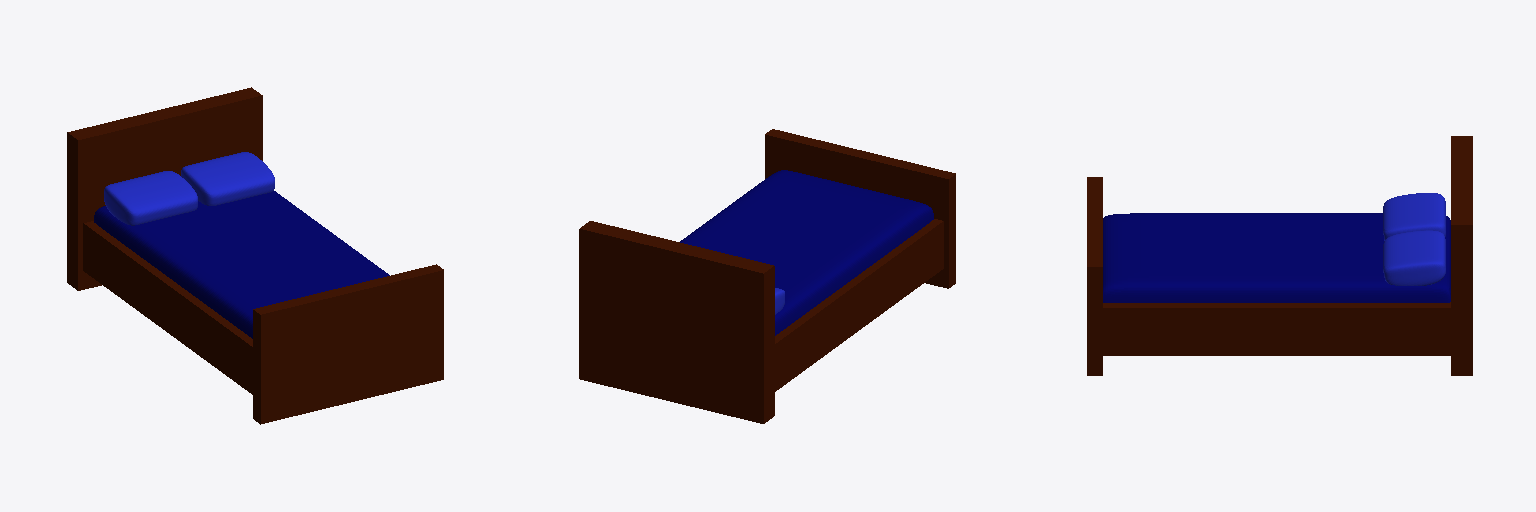
The model's file is bed.obj.
3 views of the same model, side by side, from view 1: azimuth 30°, elevation 25°; view 2: azimuth 150°, elevation 25°; view 3: azimuth 270°, elevation 25° (orthographic).
Parts seen in each view (by area): view 1: Cube.001_Cube.003, Cube.004_Cube.007, Cube_Cube.002, Cube.003_Cube.006, Cube.006_Cube.009, Cube.005_Cube.008; view 2: Cube_Cube.002, Cube.004_Cube.007, Cube.003_Cube.006, Cube.001_Cube.003; view 3: Cube.004_Cube.007, Cube.002_Cube.004, Cube_Cube.002, Cube.005_Cube.008, Cube.001_Cube.003, Cube.006_Cube.009.
Boxes of the visible parts, <box> form: Cube.001_Cube.003: <box>253,264,443,424</box>; Cube.004_Cube.007: <box>94,191,389,338</box>; Cube_Cube.002: <box>67,87,262,290</box>; Cube.003_Cube.006: <box>83,221,252,394</box>; Cube.006_Cube.009: <box>104,171,197,225</box>; Cube.005_Cube.008: <box>181,152,274,205</box>; Cube_Cube.002: <box>579,221,774,423</box>; Cube.004_Cube.007: <box>680,170,933,335</box>; Cube.003_Cube.006: <box>775,219,943,391</box>; Cube.001_Cube.003: <box>765,129,955,288</box>; Cube.004_Cube.007: <box>1103,213,1450,302</box>; Cube.002_Cube.004: <box>1103,302,1450,355</box>; Cube_Cube.002: <box>1451,136,1472,375</box>; Cube.005_Cube.008: <box>1383,230,1445,285</box>; Cube.001_Cube.003: <box>1087,177,1102,375</box>; Cube.006_Cube.009: <box>1383,193,1445,240</box>.
Bounding box in the file's own units: 2.42 × 1.89 × 4.38.